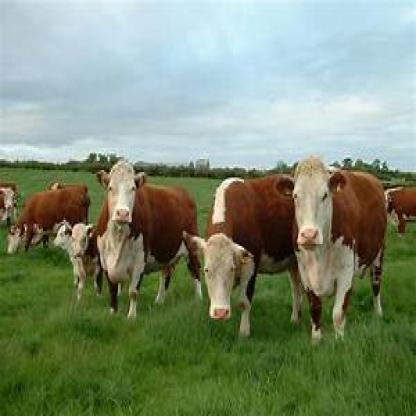cow: (275, 154, 388, 340), (93, 159, 205, 318), (184, 178, 288, 342), (6, 185, 90, 257), (68, 226, 97, 298), (0, 181, 20, 230), (53, 218, 72, 253)
